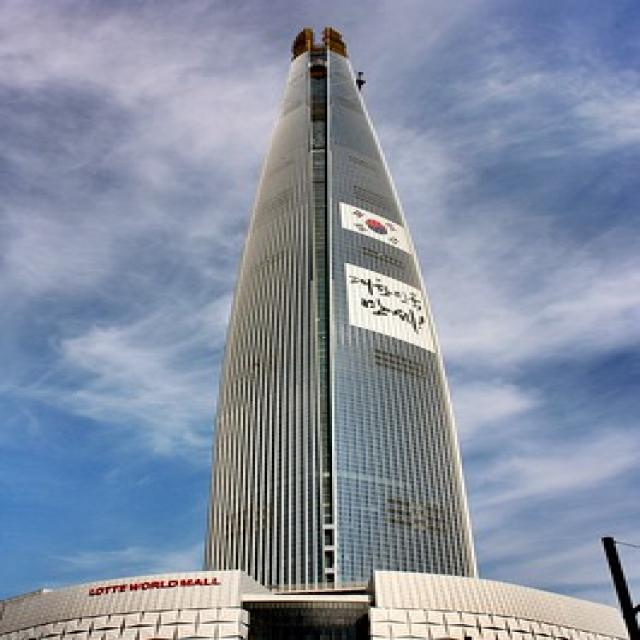Normal_building: (196, 16, 485, 584)
